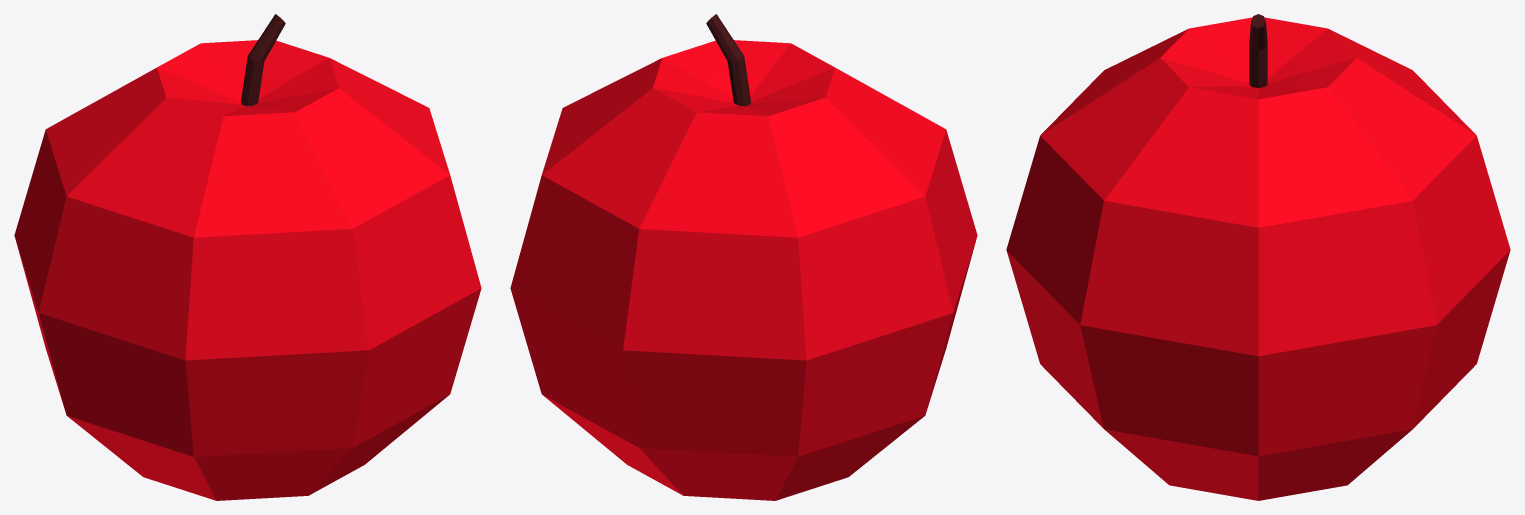
Rendered from maca.fbx.
The picture shows the model from 3 angles, left to right: view 1: azimuth 30°, elevation 25°; view 2: azimuth 150°, elevation 25°; view 3: azimuth 270°, elevation 25°; orthographic projection. The views are drawn at different scales.
Parts seen in each view (by area): view 1: Maca; view 2: Maca; view 3: Maca.
Part boxes in pixels (x1,y1,x2,y2): Maca: (14, 14, 481, 500); Maca: (510, 14, 977, 500); Maca: (1006, 14, 1510, 500).
Bounding box in the file's own units: 22.8 × 23.89 × 22.8.
1 material, 1 textured.
